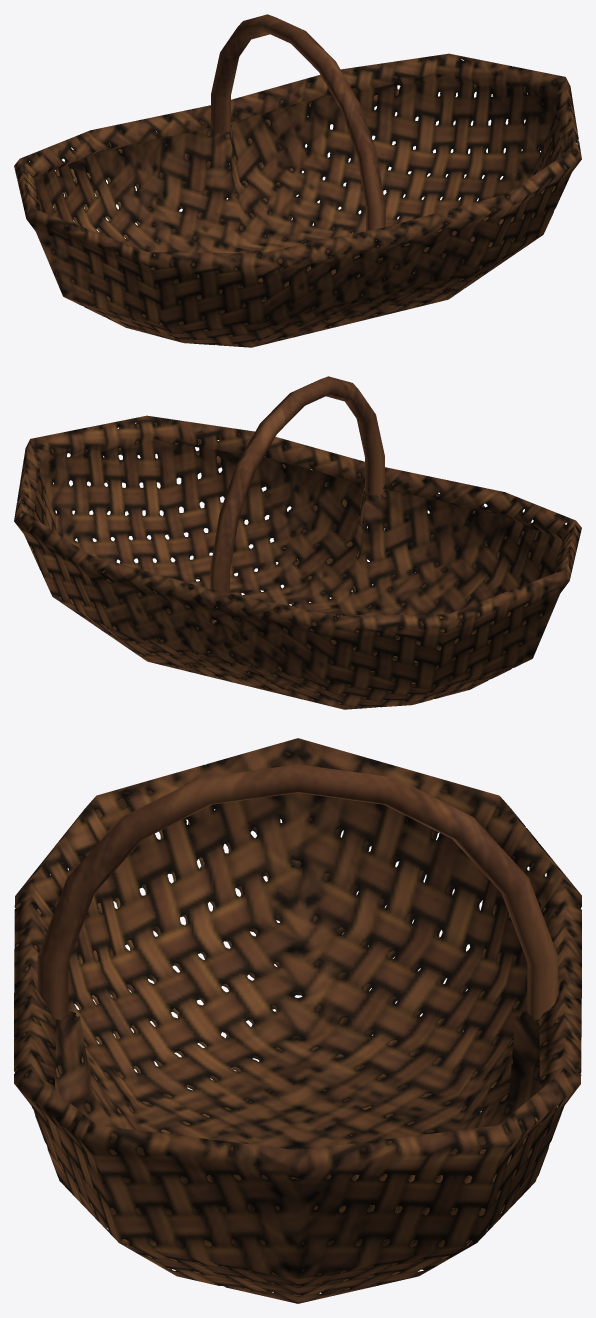
The model's file is Basket.fbx.
3 renders of one model, top to bottom at view 1: azimuth 30°, elevation 25°; view 2: azimuth 150°, elevation 25°; view 3: azimuth 270°, elevation 25°, orthographic. The views are drawn at different scales.
Visible parts, largest first — view 1: Basket; view 2: Basket; view 3: Basket.
Part boxes in pixels (x1,y1,x2,y2): Basket: (14,14,581,347); Basket: (14,376,581,709); Basket: (14,738,581,1303).
Size of the model in its own units: 0.7737 by 0.3639 by 0.4426.
